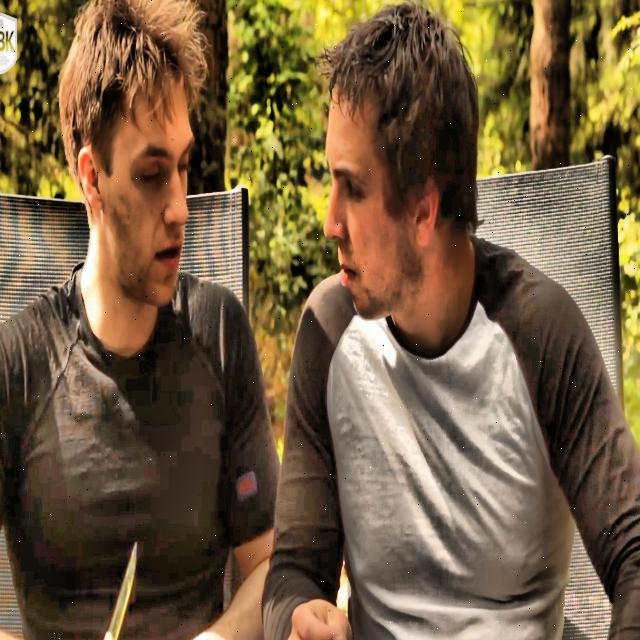knife: (98, 540, 136, 640)
